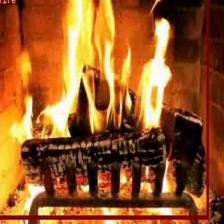fire: (0, 0, 208, 218)
